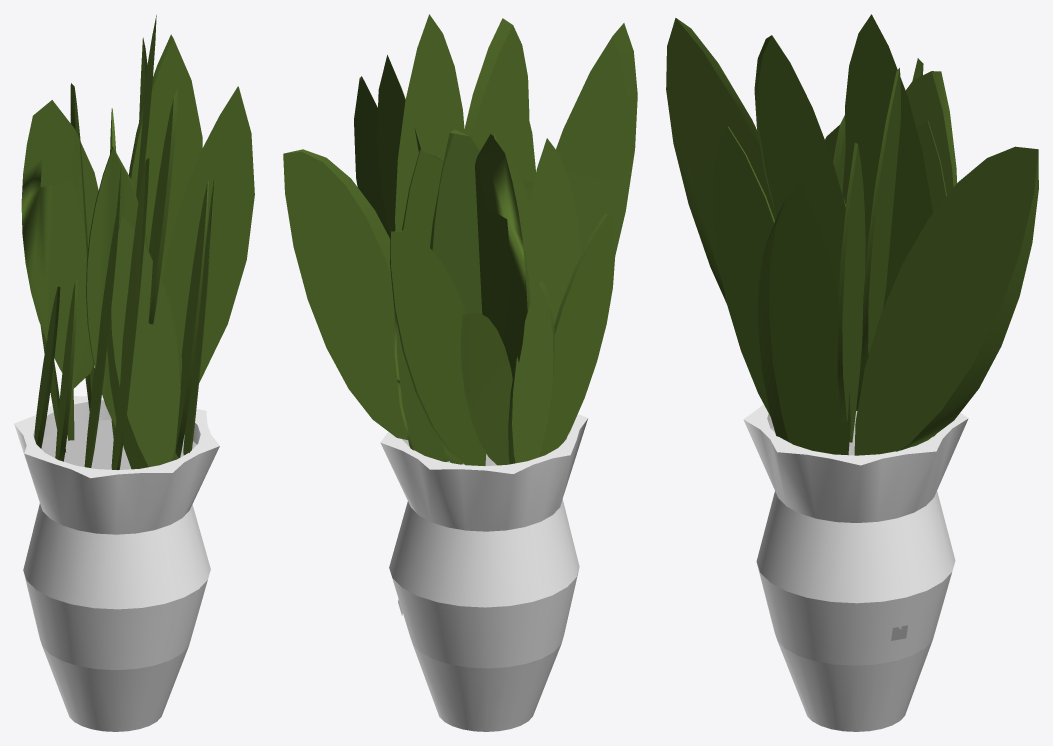
3 views of the same model, side by side, from view 1: azimuth 30°, elevation 25°; view 2: azimuth 150°, elevation 25°; view 3: azimuth 270°, elevation 25° (orthographic). The views are drawn at different scales.
Visible parts, largest first — view 1: Mesh1_Model.004; view 2: Mesh1_Model.004; view 3: Mesh1_Model.004.
Part boxes in pixels (box(x1,y1,x2,y2)): Mesh1_Model.004: box(14, 15, 254, 731); Mesh1_Model.004: box(283, 14, 637, 731); Mesh1_Model.004: box(666, 14, 1038, 731).
Size of the model in its own units: 0.2529 by 0.7461 by 0.3492.
